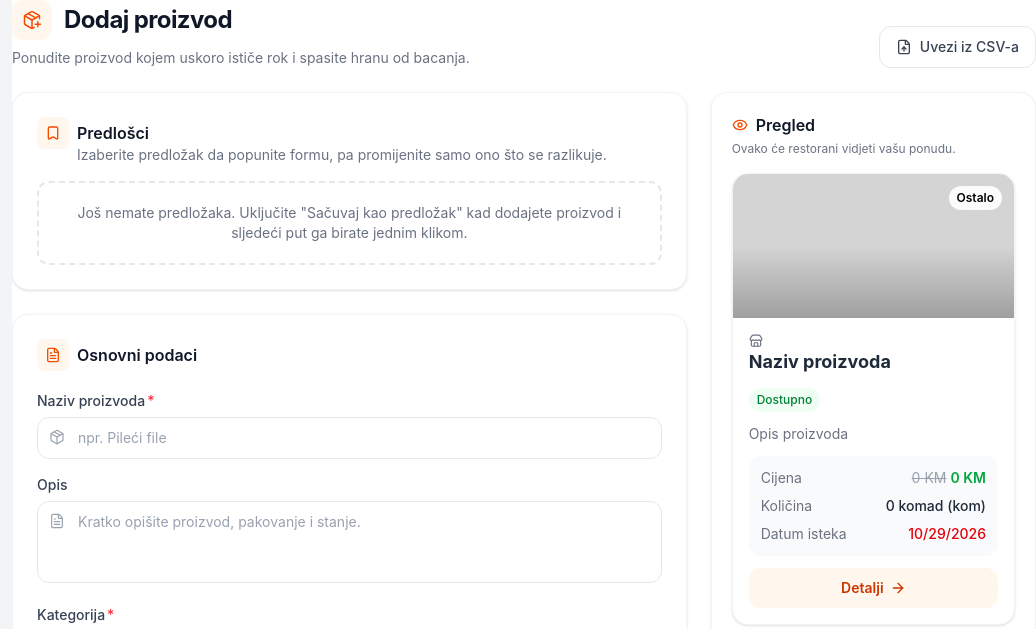
Test case: AddProductPage › shows a field's error once it is left empty and clears it when filled
Click the field labelled "Naziv proizvoda" at (349,438), box top-left (37, 417), bottom-right (662, 459)
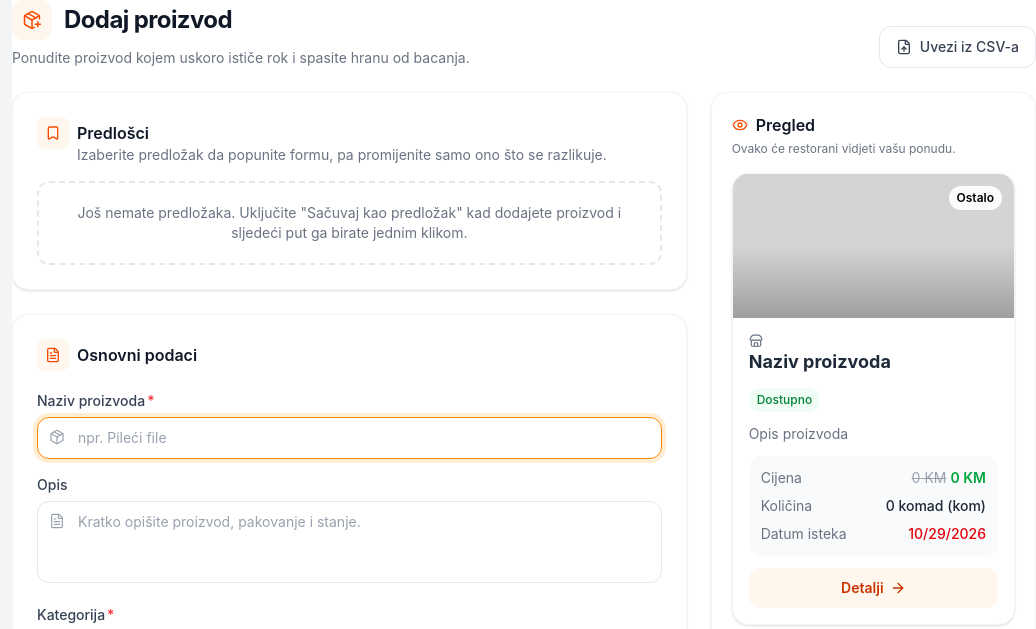
Press Tab
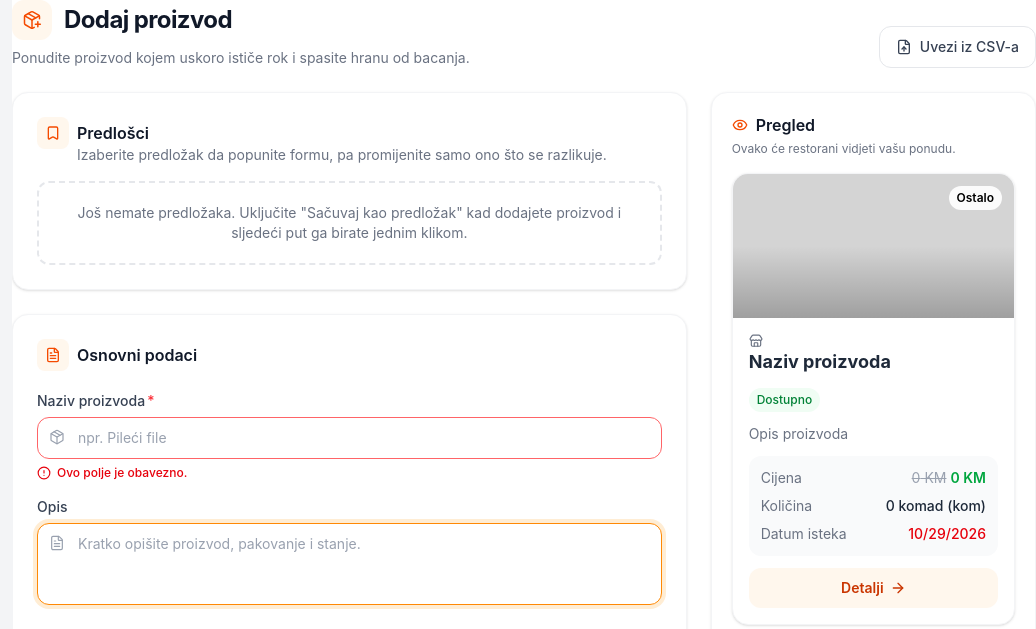
Check: the text "Ovo polje je obavezno." is shown once, box top-left (37, 465), bottom-right (187, 480)
Type "Jogurt" into the field labelled "Naziv proizvoda" at (349,438), box top-left (37, 417), bottom-right (662, 459)
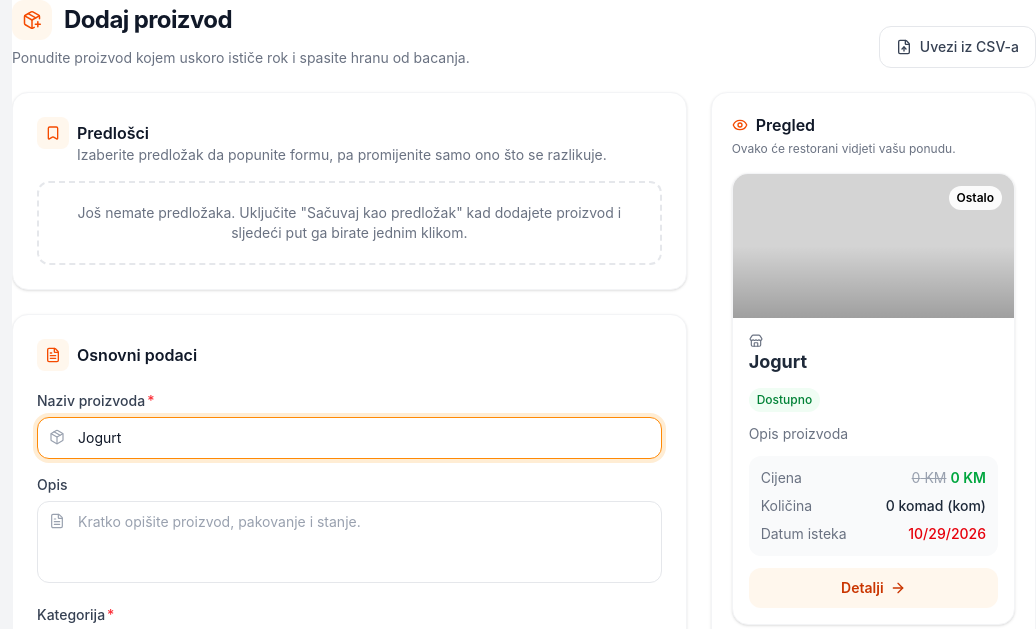
Check: the text "Ovo polje je obavezno." is gone
